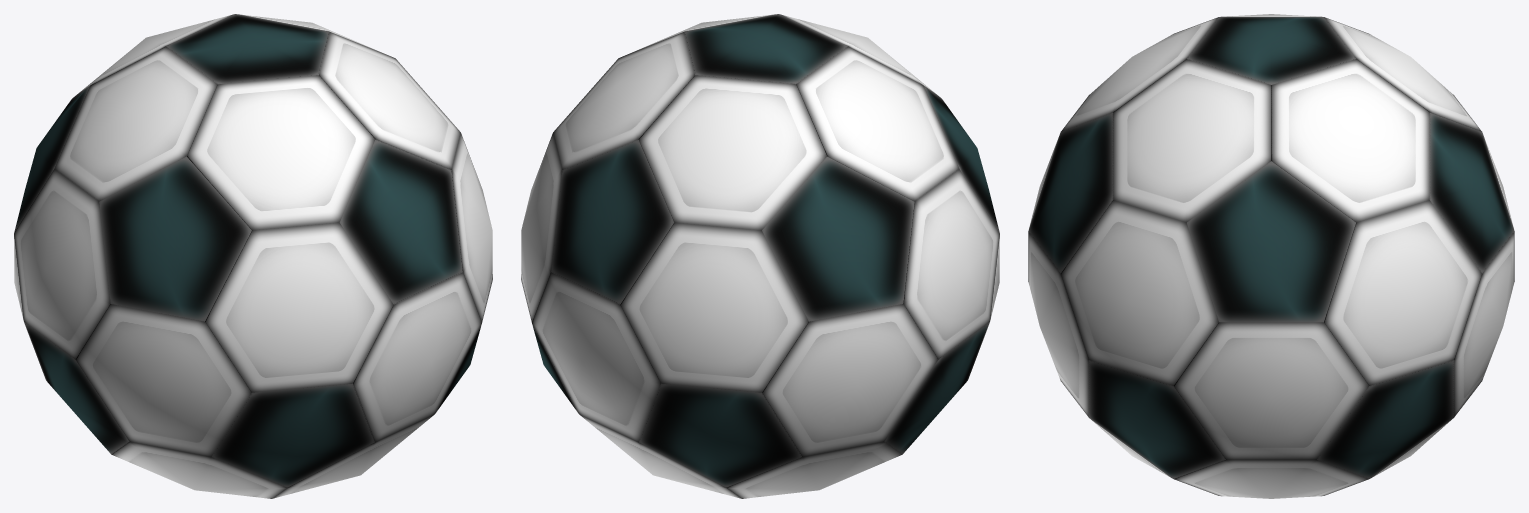
The model's file is Ball.FBX.
3 views of the same model, side by side, from view 1: azimuth 30°, elevation 25°; view 2: azimuth 150°, elevation 25°; view 3: azimuth 270°, elevation 25° (orthographic).
Visible parts, largest first — view 1: Ball; view 2: Ball; view 3: Ball.
Boxes of the visible parts, <box> form: Ball: <box>14,14,492,498</box>; Ball: <box>521,14,999,498</box>; Ball: <box>1028,14,1514,498</box>.
Size of the model in its own units: 47.91 by 48.62 by 47.79.
